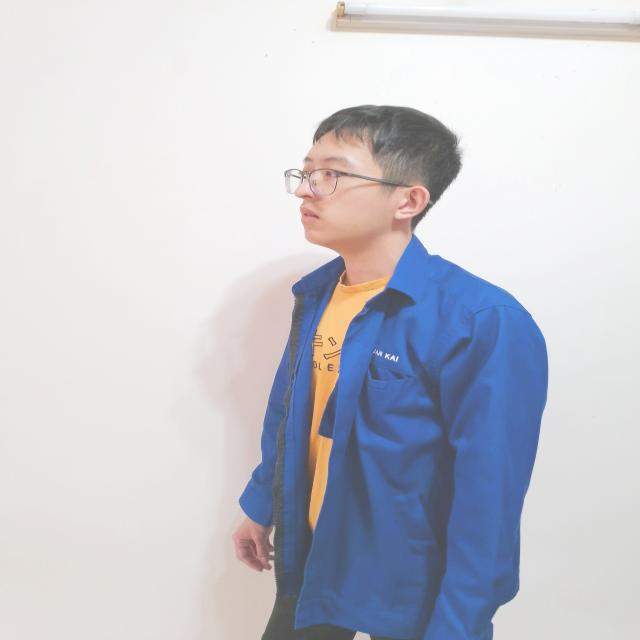person_with_labcoat: (234, 105, 548, 640)
